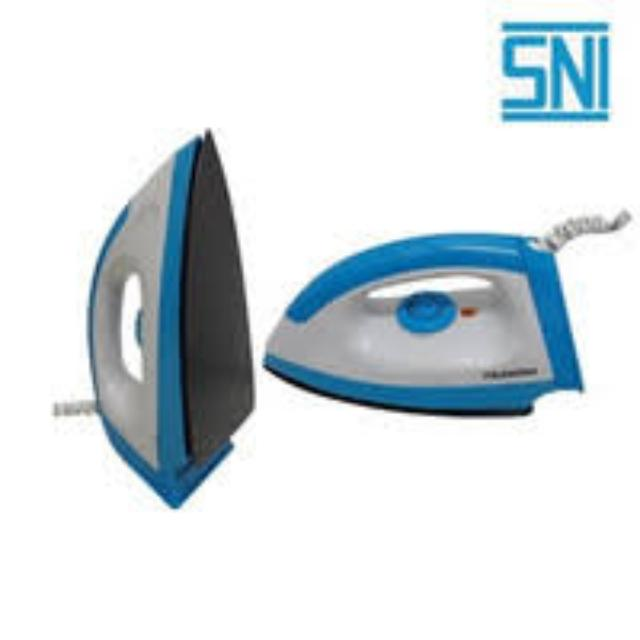Clothes-Iron: (266, 216, 590, 492)
